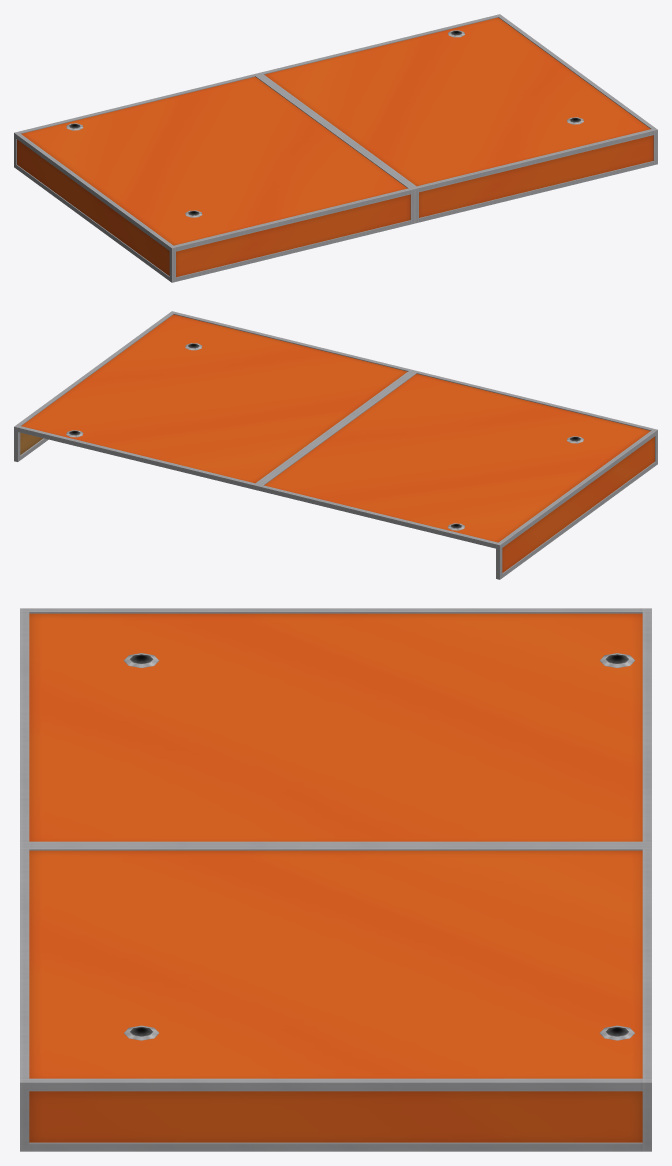
The model's file is jsf_4P_s01_c01_t01_DX.fbx.
The picture shows the model from 3 angles, top to bottom: view 1: azimuth 30°, elevation 25°; view 2: azimuth 150°, elevation 25°; view 3: azimuth 270°, elevation 25°; orthographic projection. The views are drawn at different scales.
Parts seen in each view (by area): view 1: jsf_4P_s01_c01_t01_DX; view 2: jsf_4P_s01_c01_t01_DX; view 3: jsf_4P_s01_c01_t01_DX.
Part boxes in pixels (bbox=[...]): jsf_4P_s01_c01_t01_DX: bbox=[14, 14, 657, 282]; jsf_4P_s01_c01_t01_DX: bbox=[14, 311, 657, 579]; jsf_4P_s01_c01_t01_DX: bbox=[20, 608, 651, 1151].
Bounding box in the file's own units: 184 × 12.99 × 104.
